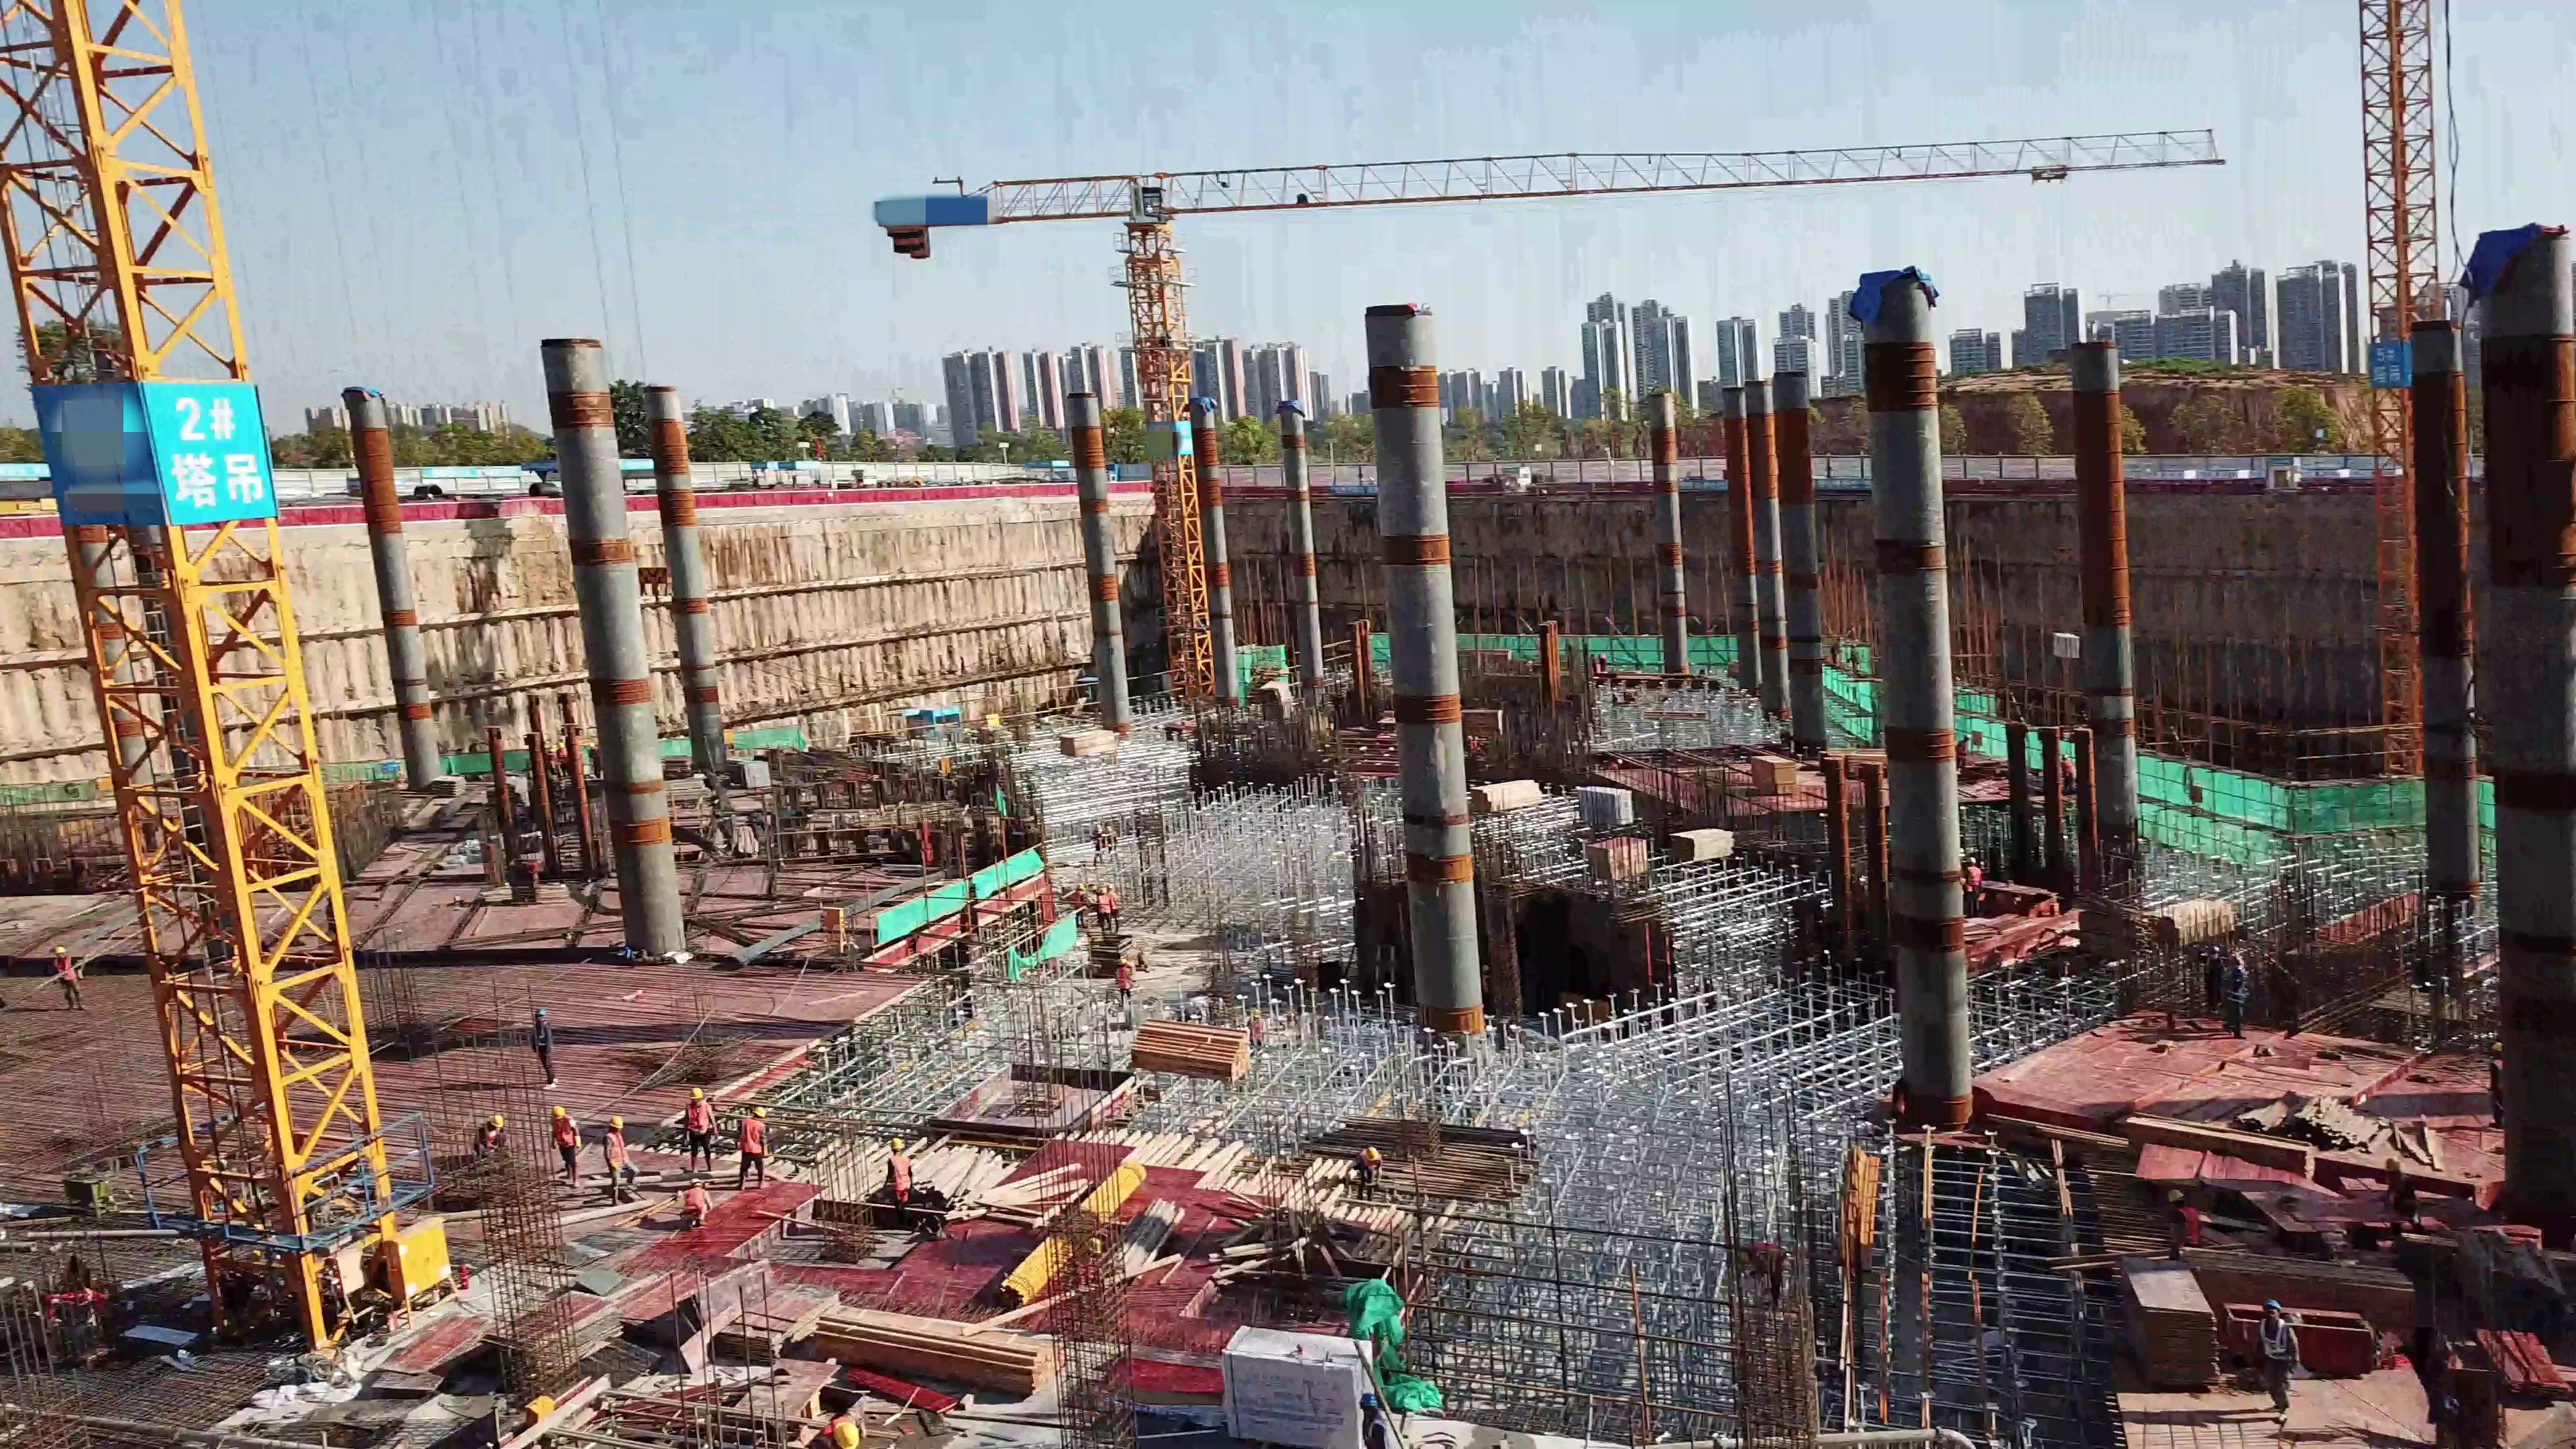board: (2216, 1243, 2412, 1332), (2126, 1263, 2222, 1390), (696, 1269, 820, 1356), (2152, 888, 2243, 949), (1589, 822, 1644, 879), (1747, 757, 1811, 793)
ebox: (388, 1214, 454, 1322), (808, 896, 857, 963)
fence: (668, 497, 918, 525)
helmet: (2165, 1186, 2188, 1203), (607, 1112, 626, 1129), (2261, 1299, 2284, 1312), (684, 1087, 704, 1102), (52, 942, 70, 957), (486, 1112, 505, 1124), (689, 1171, 705, 1184), (533, 1005, 547, 1018), (890, 1137, 905, 1150), (1366, 1148, 1380, 1160), (551, 1104, 566, 1115), (753, 1107, 766, 1116), (1107, 881, 1116, 893), (1252, 1007, 1261, 1017), (1097, 885, 1109, 892), (1116, 956, 1129, 961), (1077, 882, 1085, 892)
person: (2251, 1295, 2303, 1415), (595, 1110, 645, 1212), (524, 995, 570, 1094), (736, 1094, 780, 1197), (545, 1095, 590, 1194), (48, 941, 98, 1020), (676, 1081, 722, 1165), (878, 1134, 920, 1213), (2159, 1184, 2207, 1252), (2223, 950, 2253, 1039), (470, 1112, 521, 1159), (675, 1176, 726, 1221), (1960, 850, 1988, 926), (1352, 1139, 1387, 1199), (2202, 940, 2224, 1027), (1246, 1006, 1274, 1055), (1111, 955, 1140, 1003), (2050, 747, 2076, 792), (1951, 732, 1976, 770), (1104, 878, 1121, 929), (1072, 881, 1089, 929), (1095, 885, 1109, 928), (1466, 727, 1483, 761), (1606, 754, 1622, 776)
slogan: (151, 387, 271, 517), (1686, 473, 1904, 499), (2358, 341, 2406, 382)
vest: (2262, 1321, 2294, 1369), (741, 1120, 764, 1168), (2178, 1206, 2204, 1247), (890, 1154, 910, 1201), (604, 1132, 632, 1169), (688, 1108, 714, 1146), (552, 1122, 580, 1155), (682, 1189, 711, 1214), (470, 1125, 502, 1148), (531, 1024, 555, 1053), (55, 960, 82, 985), (2231, 968, 2249, 1002), (1097, 894, 1112, 915), (1248, 1022, 1263, 1039), (1108, 894, 1121, 912), (1118, 968, 1132, 985), (1071, 891, 1085, 906)
wood: (823, 1295, 1079, 1383), (1134, 1022, 1263, 1095), (1473, 777, 1544, 824), (1676, 830, 1741, 867)
